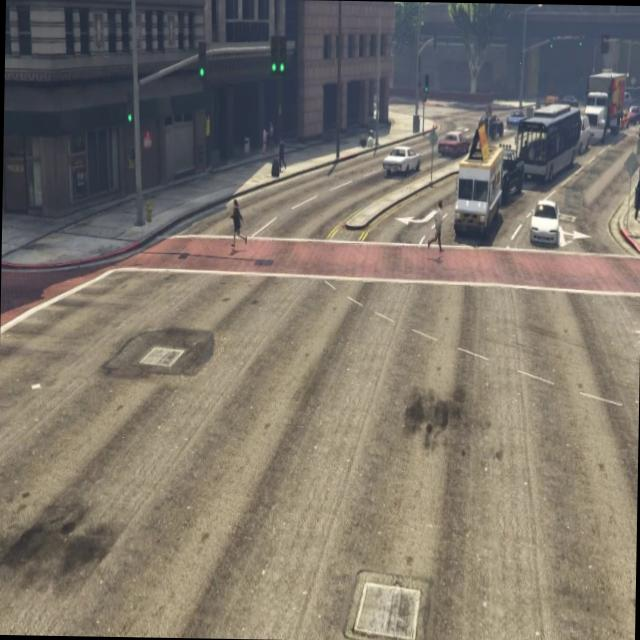Green-Signal: (262, 28, 292, 86), (120, 82, 136, 132), (194, 34, 208, 86)
